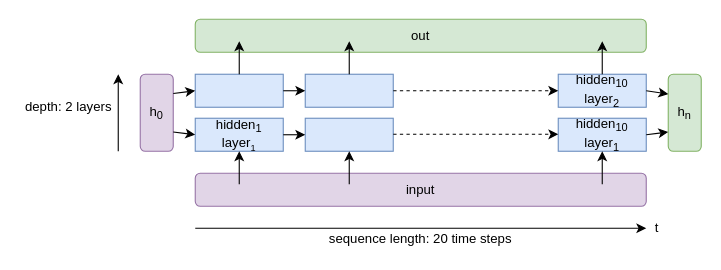
Image size: 721x270. Some labels were removed from this diagram. The centre of each missing label's shape, as x and y in pixels:
hidden 1 layer 2: [238,90]
hidden 2 layer 1: [348,134]
hidden 2 layer 2: [348,90]
